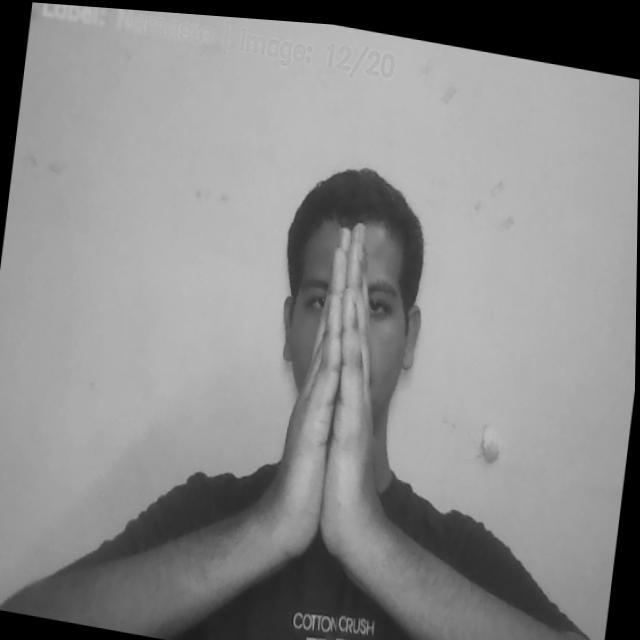Namaste: (267, 211, 406, 566)
